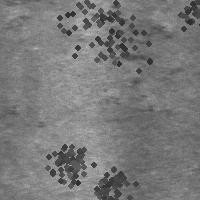rolled-in_scale: (71, 0, 163, 87), (48, 0, 148, 57), (100, 3, 175, 62), (42, 132, 98, 188), (101, 76, 155, 119), (83, 156, 133, 200), (1, 104, 48, 129), (169, 0, 200, 33)
